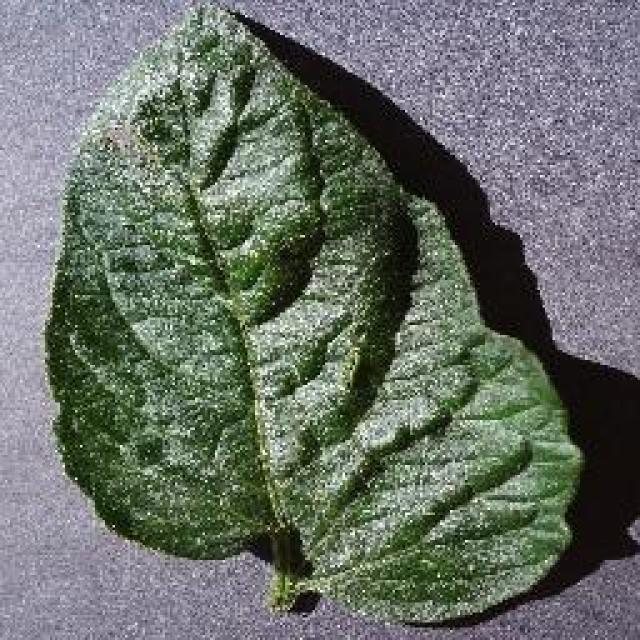Healthy: (5, 0, 603, 640)
